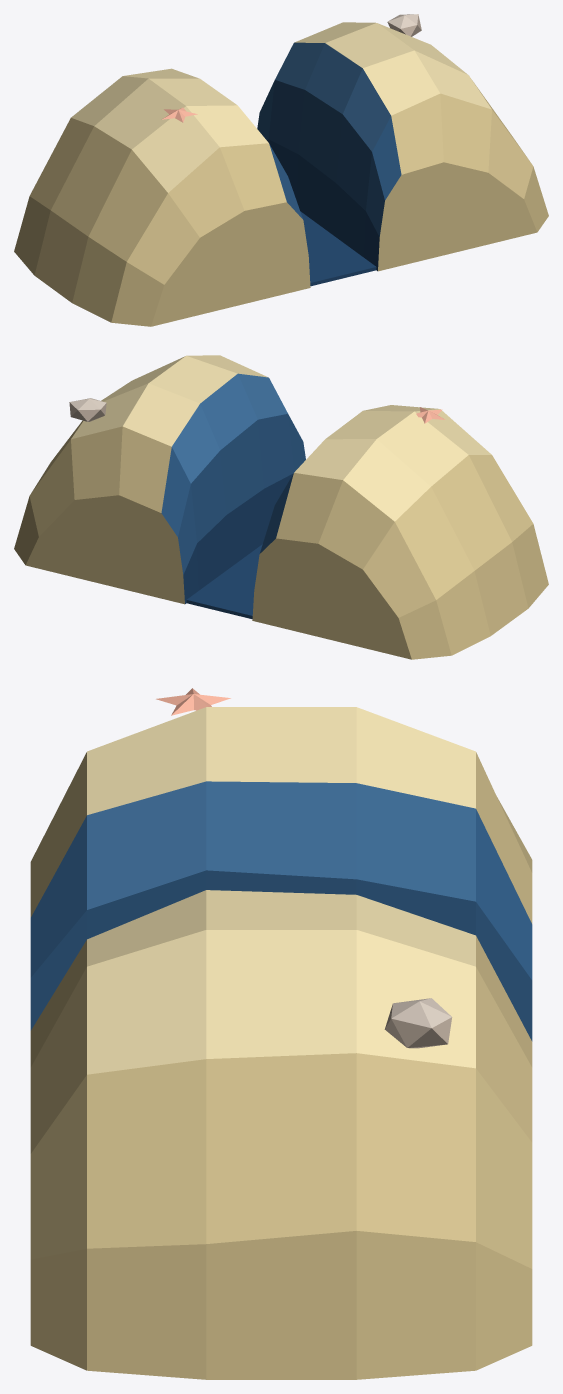
File: rock-crack.glb
3 views of the same model, one above another, from view 1: azimuth 30°, elevation 25°; view 2: azimuth 150°, elevation 25°; view 3: azimuth 270°, elevation 25° (orthographic). The views are drawn at different scales.
Visible parts, largest first — view 1: rock-crack; view 2: rock-crack; view 3: rock-crack.
Boxes of the visible parts, x1,y1,x2,y2 form: rock-crack: (14, 14, 548, 326); rock-crack: (14, 355, 548, 659); rock-crack: (30, 688, 532, 1379).
Bounding box in the file's own units: 8.4 × 3 × 4.
